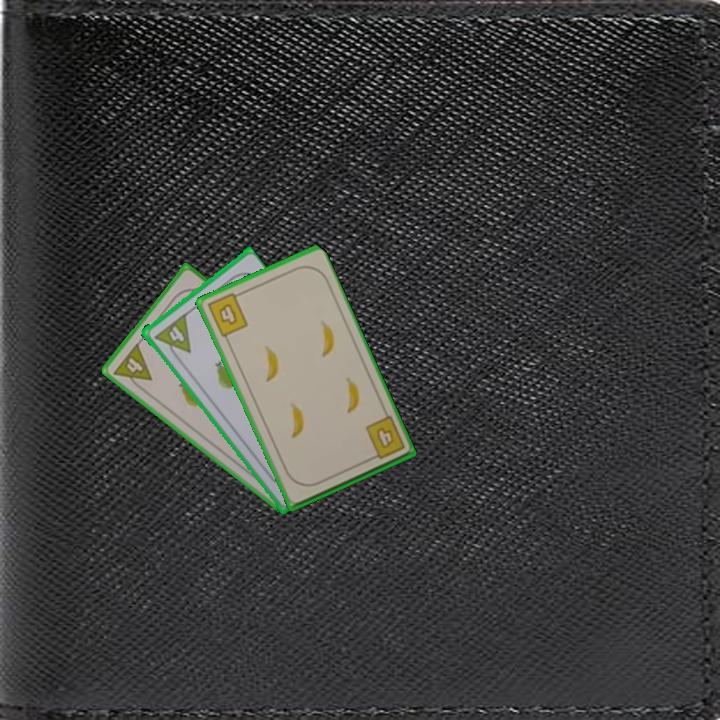4b: (203, 288, 251, 340), (361, 413, 408, 463)
4p: (109, 339, 155, 394), (162, 313, 194, 353)
